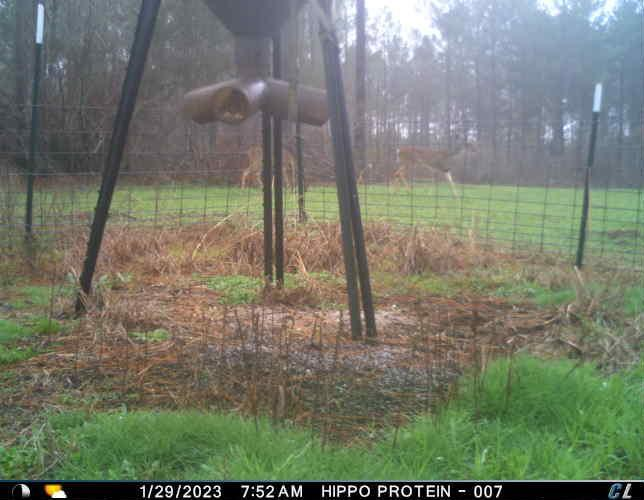Deer: (391, 131, 477, 202), (239, 144, 302, 191)
